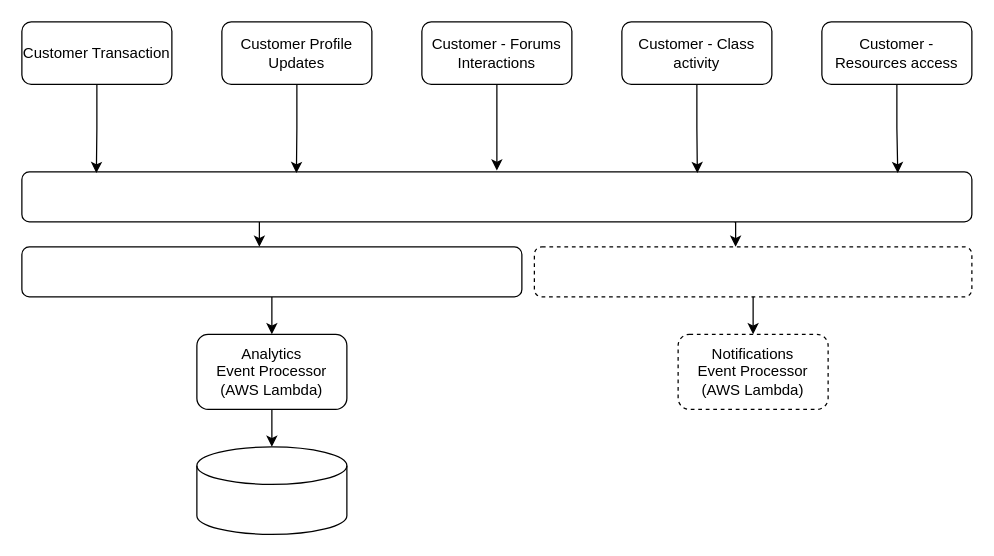
The diagram is 994 pixels wide and 556 high, and some of its shapes have lost their labels. The box of each missing label's shape, as (x1, y1, x2, y2) in pixels:
Amazon Redshift: (196, 446, 347, 534)
Analytics Kinesis Stream: (21, 246, 522, 297)
AWS EventBridge: (21, 171, 972, 222)
Notification Kinesis Stream: (533, 246, 972, 297)
